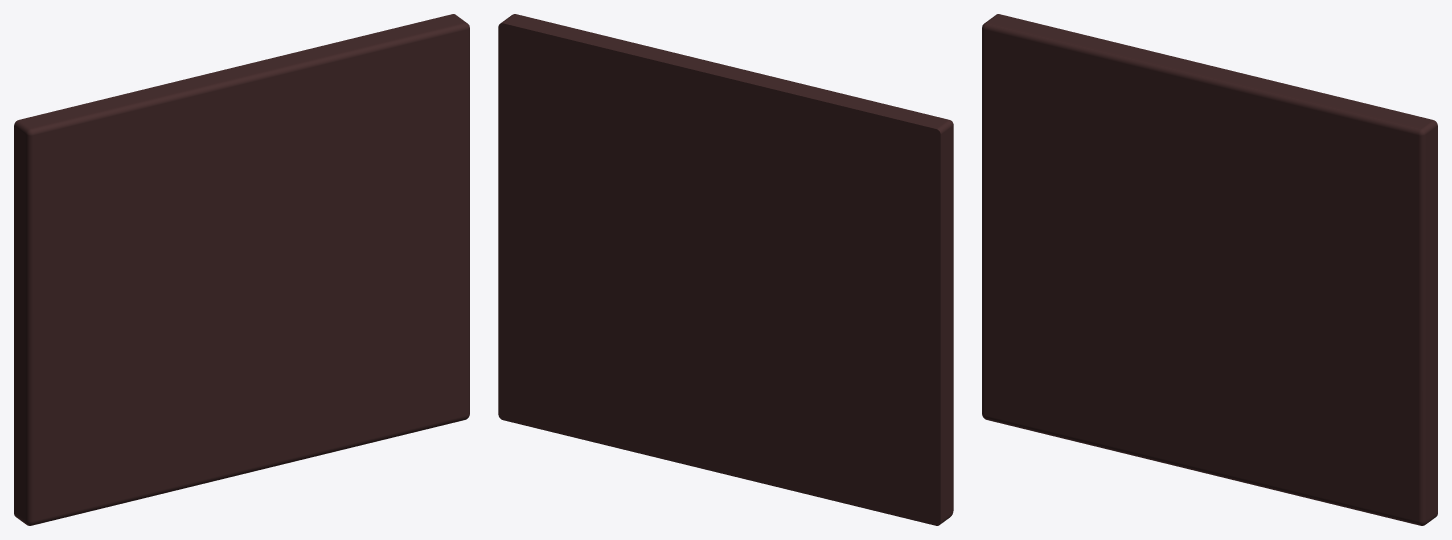
The model's file is KitchenCabinet_2_Hinges_2.fbx.
3 renders of one model, left to right at view 1: azimuth 30°, elevation 25°; view 2: azimuth 150°, elevation 25°; view 3: azimuth 330°, elevation 25°, orthographic.
Visible parts, largest first — view 1: pCube71, pCube73; view 2: pCube71, pCube73; view 3: pCube73, pCube71.
Boxes of the visible parts, x1,y1,x2,y2 form: pCube71: [14, 67, 250, 525]; pCube73: [236, 14, 469, 472]; pCube71: [719, 67, 953, 525]; pCube73: [498, 14, 731, 472]; pCube73: [1201, 67, 1437, 525]; pCube71: [982, 14, 1215, 472].
Size of the model in its own units: 46.67 by 40 by 2.7.
